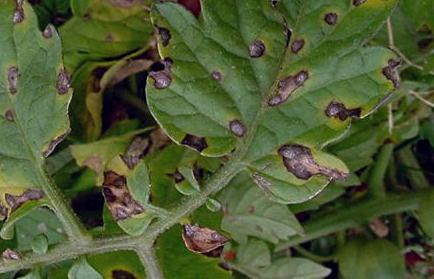Tomato Septoria leaf spot: (146, 0, 414, 219), (0, 0, 79, 240)
